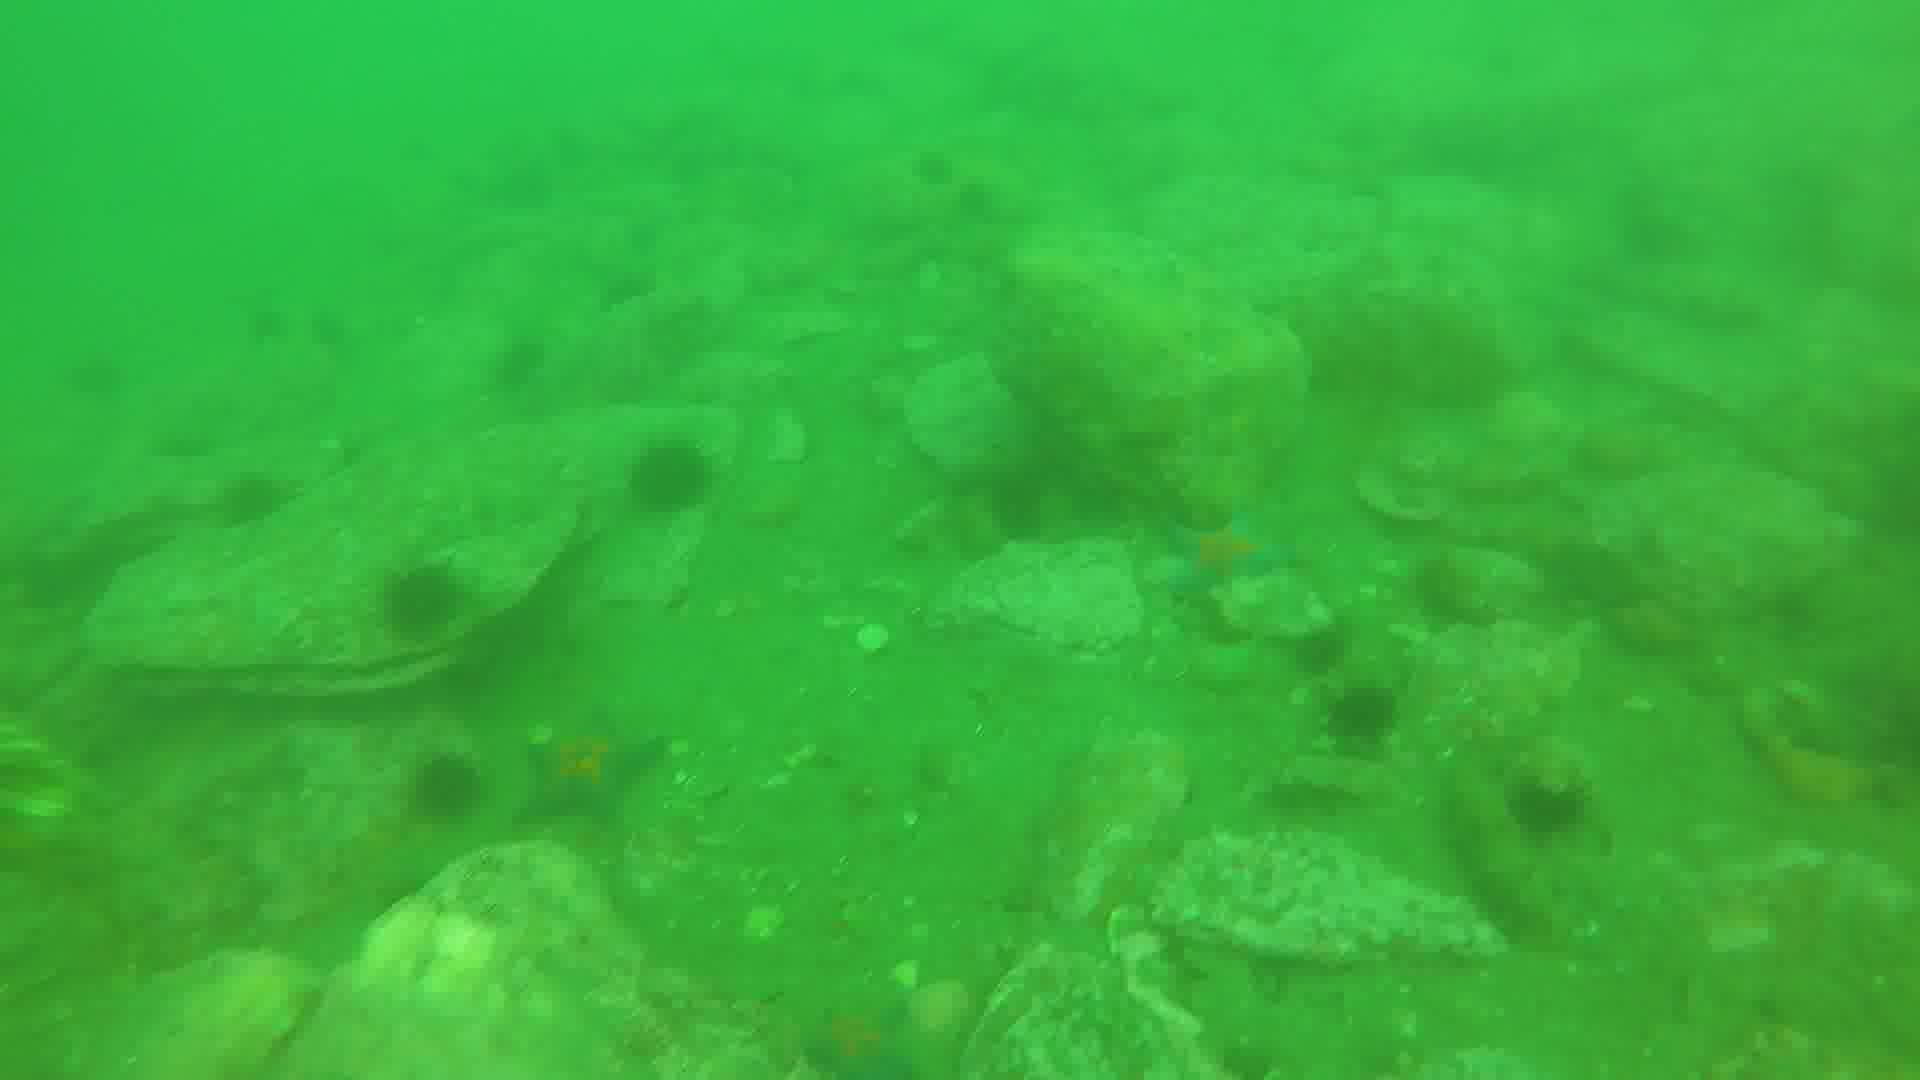echinus: (1509, 758, 1593, 833), (630, 440, 709, 513), (385, 574, 460, 636), (415, 756, 481, 814), (1335, 686, 1400, 735), (996, 481, 1043, 534), (1298, 630, 1342, 675)
holothurian: (1437, 770, 1543, 939)
starfish: (531, 707, 666, 825), (1168, 512, 1300, 618), (800, 994, 922, 1080), (1547, 531, 1658, 615)
